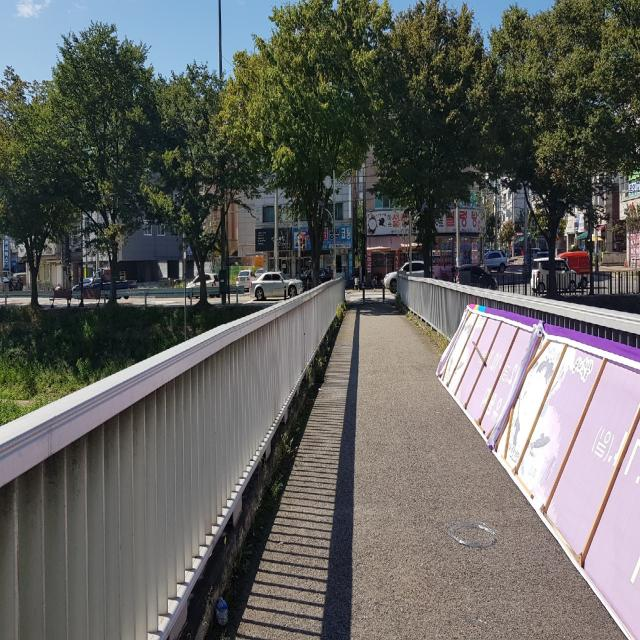횡단보도: (349, 292, 395, 304)
